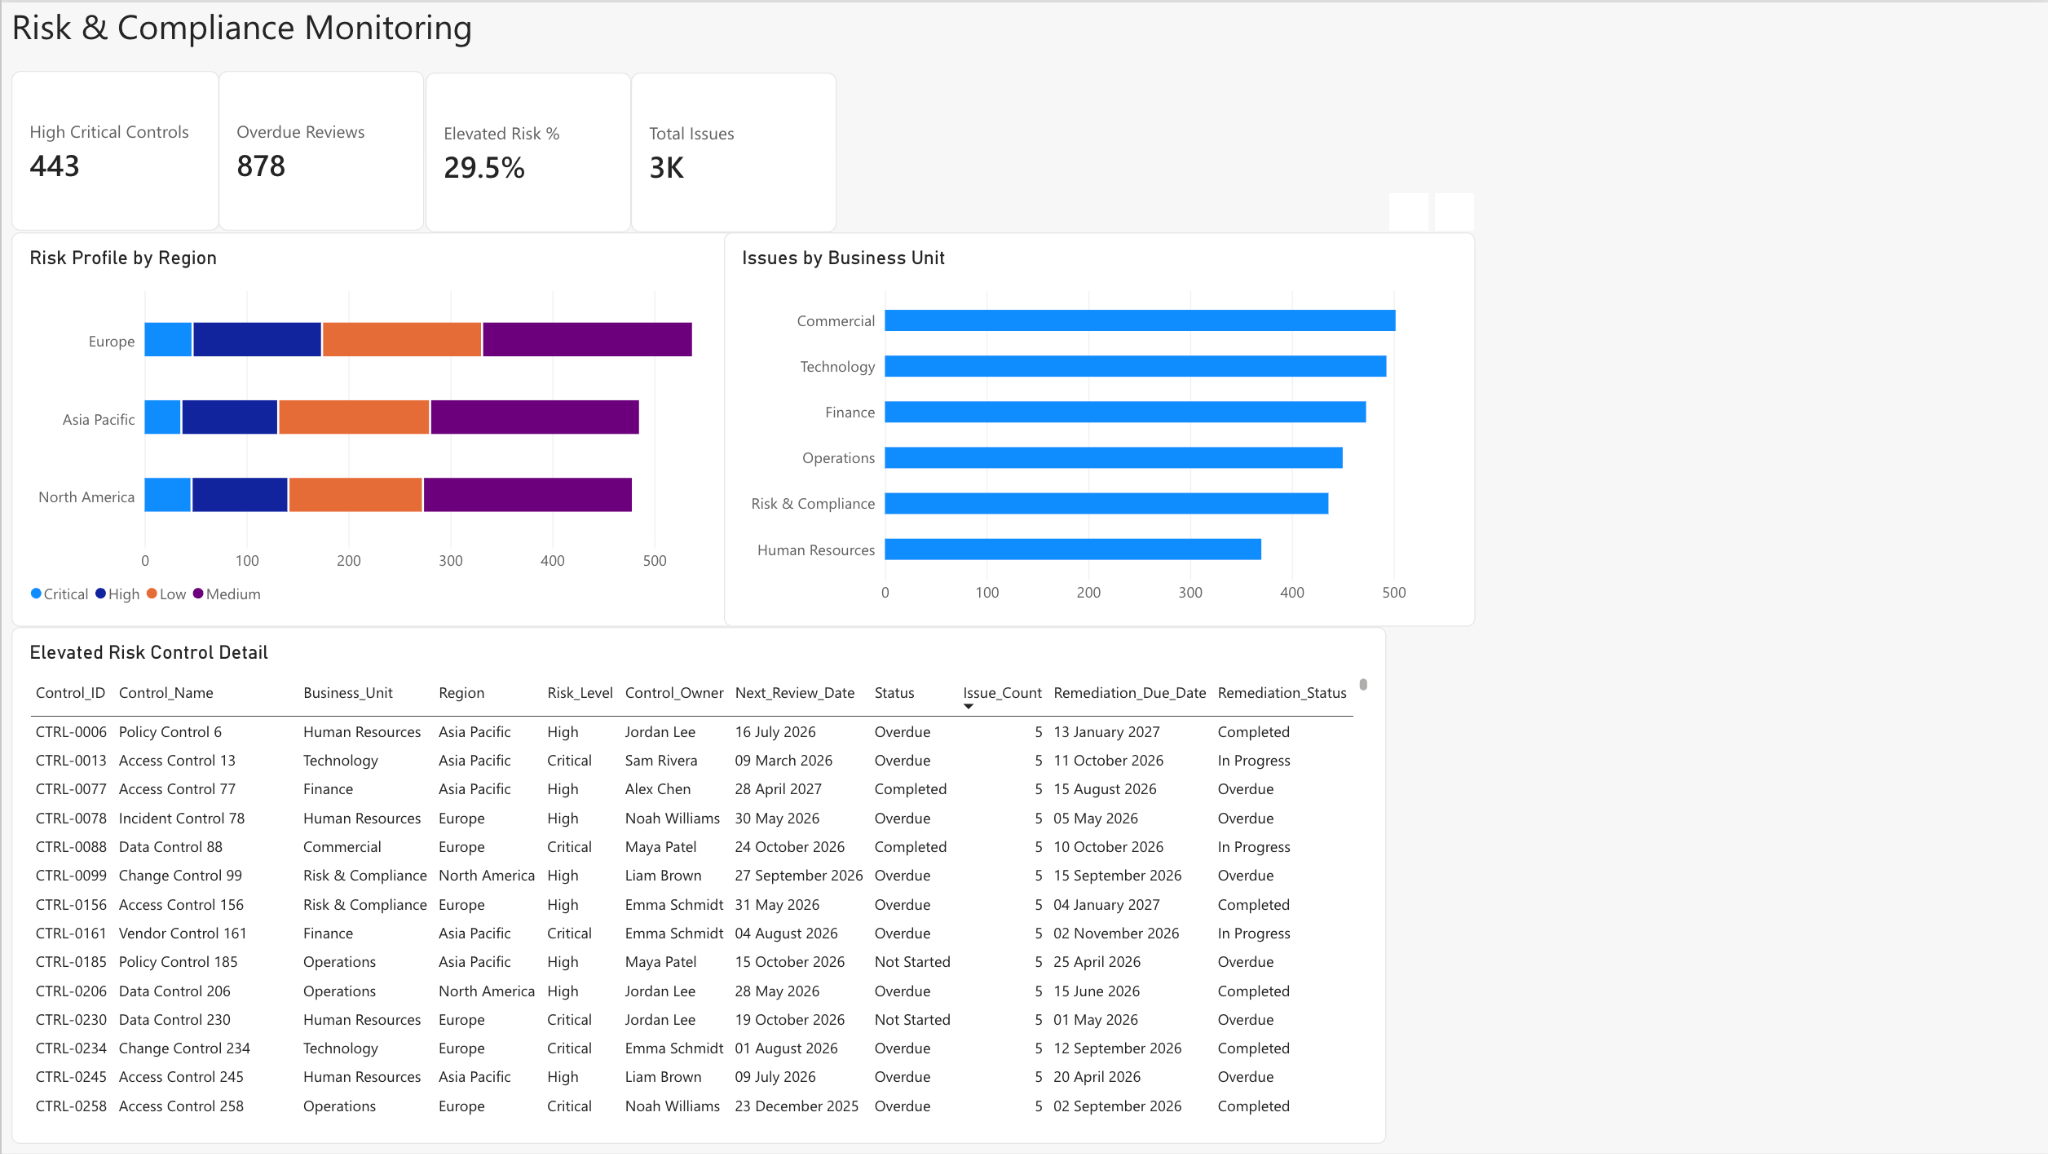

The page's visual inventory and layout, read from the dashboard file:
{"tool":"powerbi","page":{"name":"Risk & Complicance","canvas":[1920,1080],"ordinal":1},"visuals":[{"type":"textbox","box":[9.3,0,841.4,64.9],"z":0},{"type":"cardVisual","fields":{"Data":["PQ_Cleaned_Controls.High Critical Controls"]},"box":[8.8,65,195,150],"z":1000},{"type":"cardVisual","fields":{"Data":["PQ_Cleaned_Controls.Elevated Risk %"]},"box":[397.5,66.2,193.8,150],"z":2000},{"type":"cardVisual","fields":{"Data":["PQ_Cleaned_Controls.Overdue Reviews"]},"box":[203.8,65,193.8,150],"z":3000},{"type":"cardVisual","fields":{"Data":["PQ_Cleaned_Controls.Total Issues"]},"box":[591.2,66.2,193.8,150],"z":4000},{"type":"barChart","title":"Risk Profile by Region","fields":{"Category":["PQ_Cleaned_Controls.Region"],"Series":["PQ_Cleaned_Controls.Risk_Level"],"Y":["PQ_Cleaned_Controls.Total Controls"]},"box":[8.8,216.2,680,370],"z":5000},{"type":"barChart","title":"Issues by Business Unit","fields":{"Category":["PQ_Cleaned_Controls.Business_Unit"],"Y":["PQ_Cleaned_Controls.Total Issues"]},"box":[677.5,216.2,705,370],"z":6000},{"type":"tableEx","title":"Elevated Risk Control Detail","fields":{"Values":["PQ_Cleaned_Controls.Control_ID","PQ_Cleaned_Controls.Control_Name","PQ_Cleaned_Controls.Business_Unit","PQ_Cleaned_Controls.Region","PQ_Cleaned_Controls.Risk_Level","PQ_Cleaned_Controls.Control_Owner","PQ_Cleaned_Controls.Next_Review_Date","PQ_Cleaned_Controls.Status","PQ_Cleaned_Controls.Issue_Count","PQ_Cleaned_Controls.Remediation_Due_Date","PQ_Cleaned_Controls.Remediation_Status"]},"box":[8.8,586.2,1290,485],"z":7000}]}

Visuals, with their boxes in screenshot pixels (x1, y1, x2, y2), scaled from the page's 1920x1080 canvas onto the 2048x1154 screenshot:
textbox: locate(10, 0, 907, 69)
cardVisual - PQ_Cleaned_Controls.High Critical Controls: locate(9, 69, 217, 230)
cardVisual - PQ_Cleaned_Controls.Elevated Risk %: locate(424, 71, 631, 231)
cardVisual - PQ_Cleaned_Controls.Overdue Reviews: locate(217, 69, 424, 230)
cardVisual - PQ_Cleaned_Controls.Total Issues: locate(631, 71, 837, 231)
"Risk Profile by Region" barChart: locate(9, 231, 735, 626)
"Issues by Business Unit" barChart: locate(723, 231, 1475, 626)
"Elevated Risk Control Detail" tableEx: locate(9, 626, 1385, 1145)
